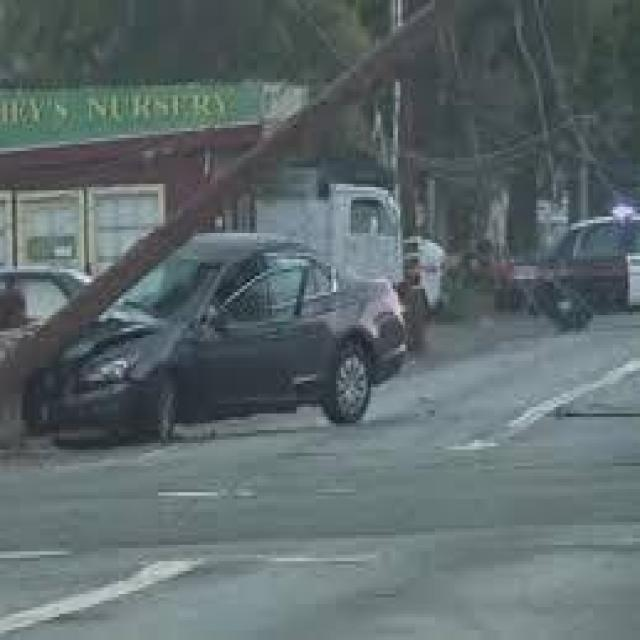severe: (22, 178, 410, 446)
